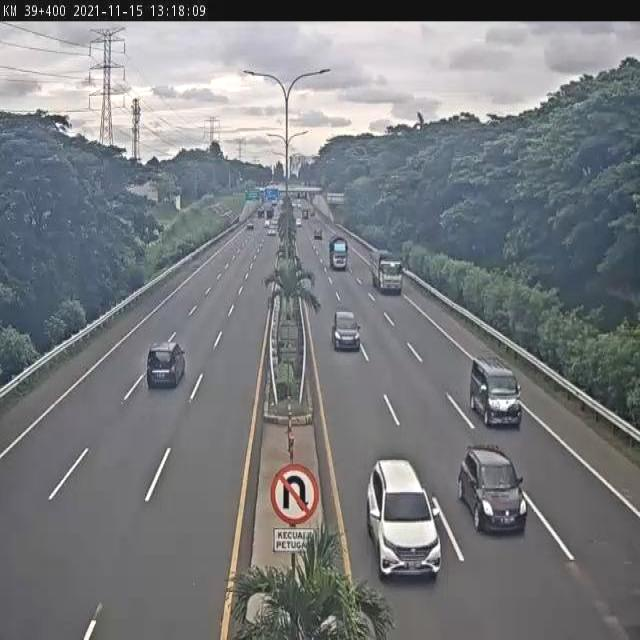Car: (367, 458, 443, 578), (458, 446, 529, 535), (470, 357, 523, 428), (147, 340, 186, 391), (332, 308, 362, 352)
Truck: (371, 249, 404, 294), (328, 236, 347, 272)
